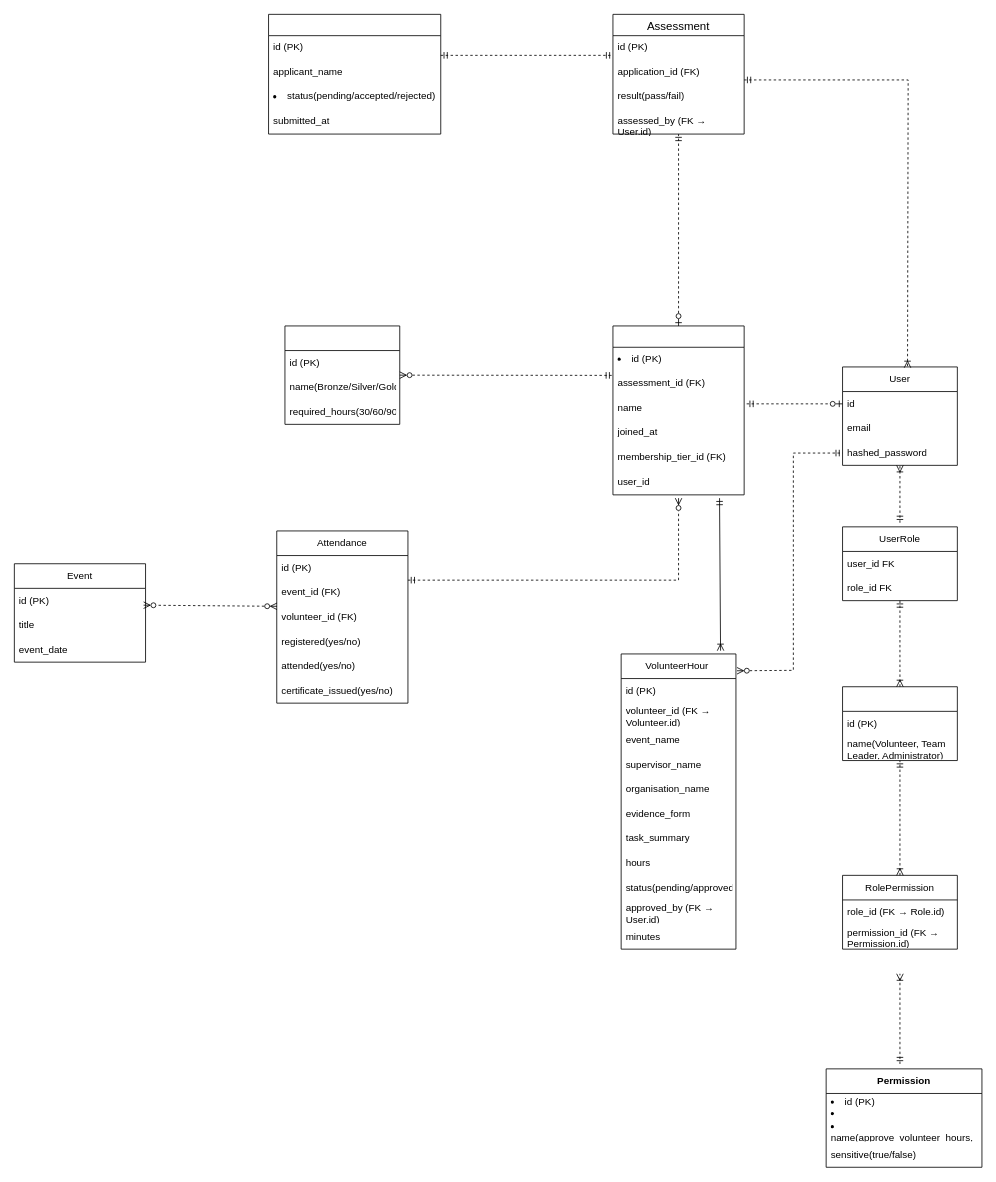
This 996x1182 diagram has some shape labels left out. The shapes that lost their labels are listed below. From the top down, each one's box as (x1, y1, x2, y2) in pixels, then its label:
(268, 14, 441, 134): Application
(284, 325, 400, 424): MembershipTier
(612, 325, 744, 495): Volunteer
(842, 686, 957, 761): Role
